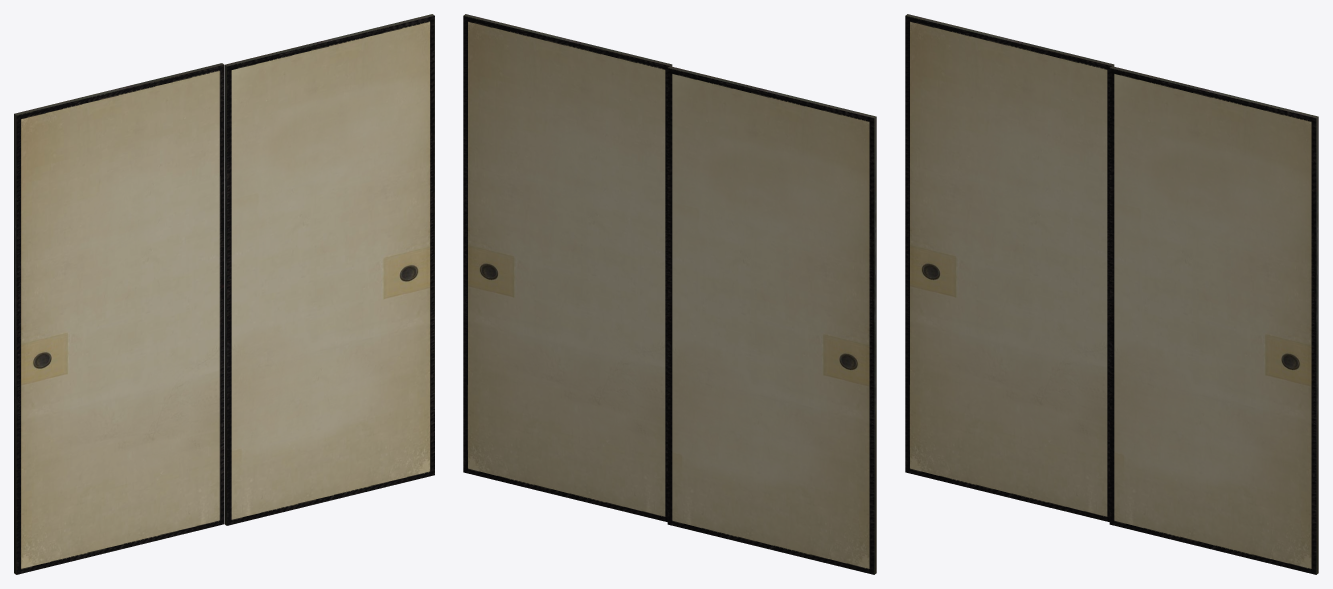
The model's file is doorFusuma.gltf.
3 views of the same model, side by side, from view 1: azimuth 30°, elevation 25°; view 2: azimuth 150°, elevation 25°; view 3: azimuth 330°, elevation 25° (orthographic).
Visible parts, largest first — view 1: fusumaDoor; view 2: fusumaDoor; view 3: fusumaDoor.
Boxes of the visible parts, <box> form: fusumaDoor: <box>14,14,434,574</box>; fusumaDoor: <box>463,14,876,574</box>; fusumaDoor: <box>905,14,1318,574</box>.
Bounding box in the file's own units: 1.62 × 1.71 × 0.032.
Materials: 1 (1 with a texture image).
